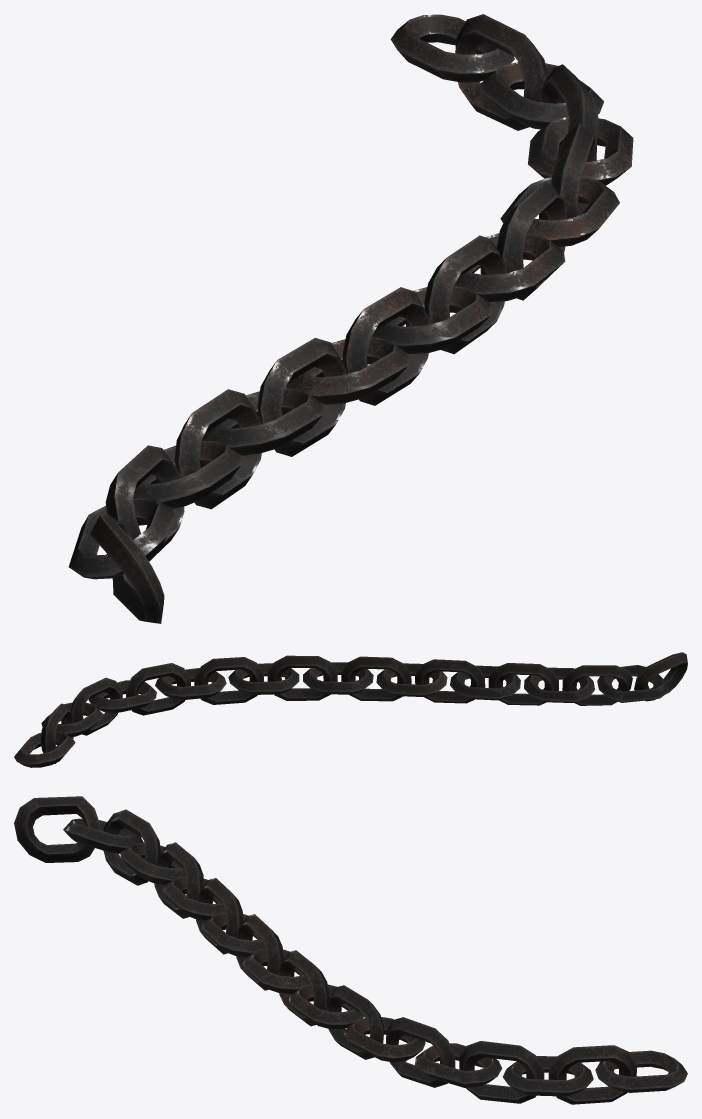
Rendered from Chain 1.fbx.
3 renders of one model, top to bottom at view 1: azimuth 30°, elevation 25°; view 2: azimuth 150°, elevation 25°; view 3: azimuth 270°, elevation 25°, orthographic. The views are drawn at different scales.
Parts seen in each view (by area): view 1: Chain 2; view 2: Chain 2; view 3: Chain 2.
Boxes of the visible parts, x1=… form: Chain 2: x1=68, y1=14, x2=633, y2=623; Chain 2: x1=14, y1=652, x2=687, y2=767; Chain 2: x1=14, y1=796, x2=687, y2=1104.
Bounding box in the file's own units: 730 × 83.19 × 770.
